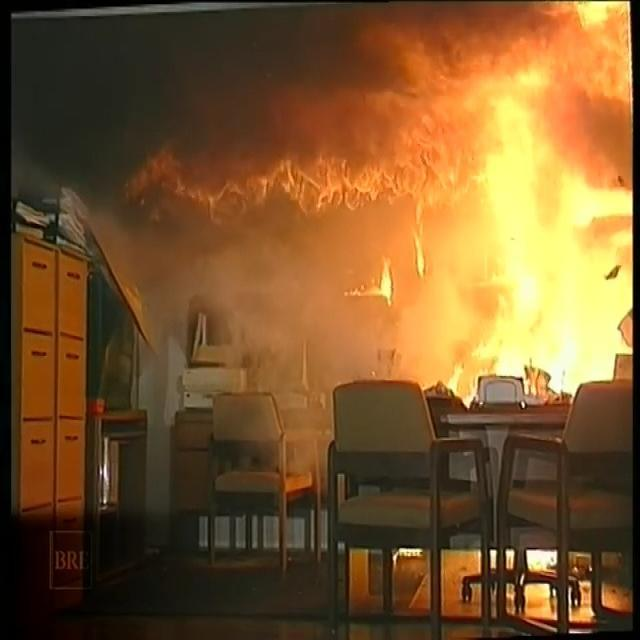Fire: (102, 4, 632, 398)
